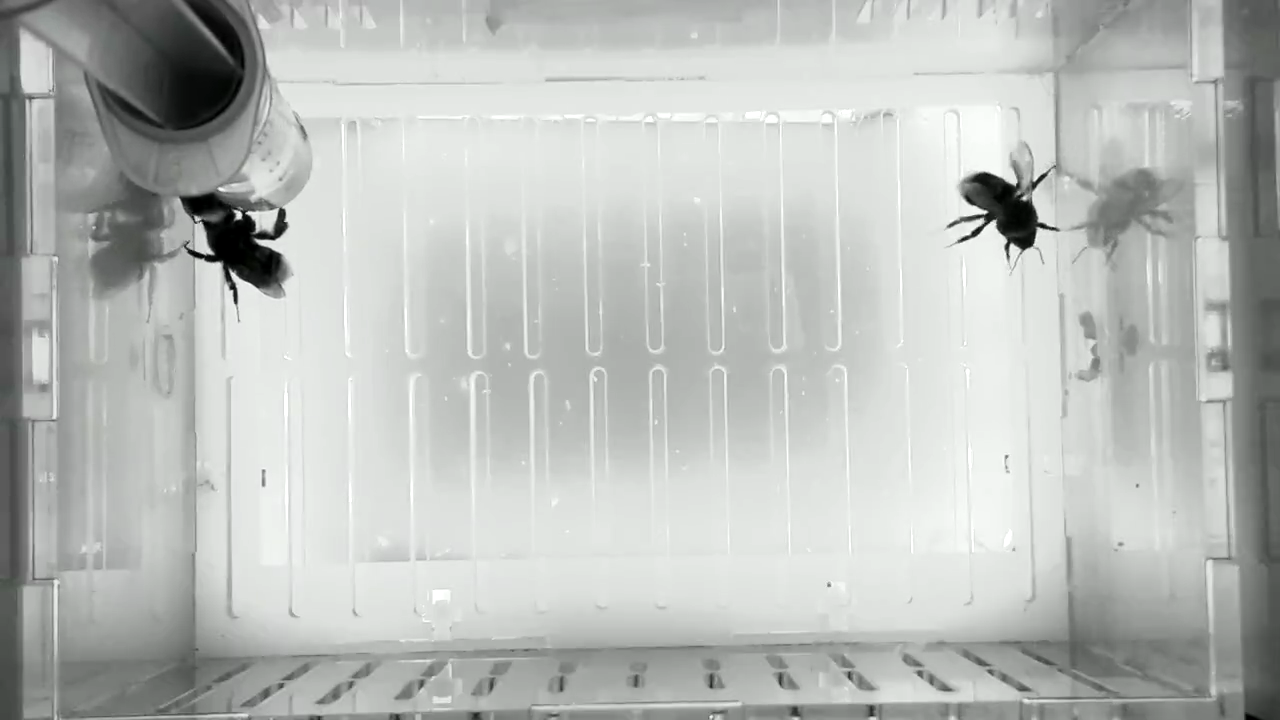bee_alive: (940, 140, 1061, 284), (182, 206, 302, 325), (174, 185, 242, 231)
feeder: (210, 75, 316, 210)
